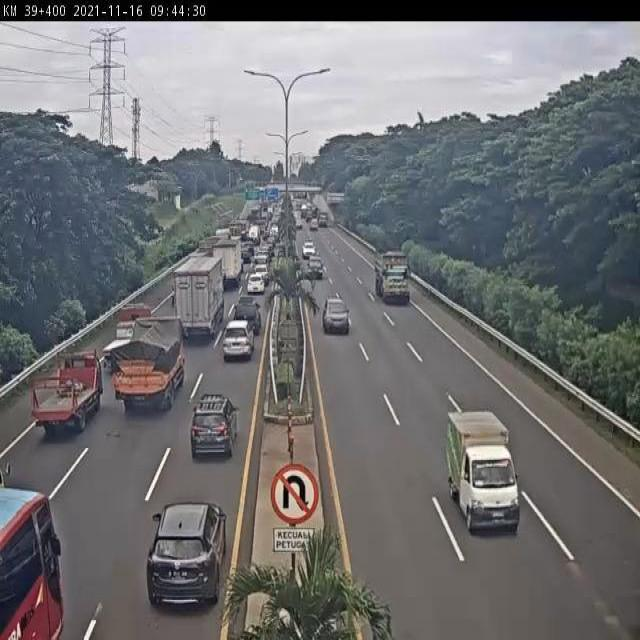car: (148, 503, 228, 604), (190, 396, 236, 455), (220, 324, 252, 365), (232, 296, 260, 336), (322, 295, 351, 333), (246, 274, 265, 294)
small truck: (447, 413, 520, 532), (31, 354, 101, 434), (103, 305, 153, 363)
truck-l-: (172, 254, 223, 338), (376, 247, 411, 304)
truck-m-: (115, 320, 189, 412), (214, 241, 243, 287)
